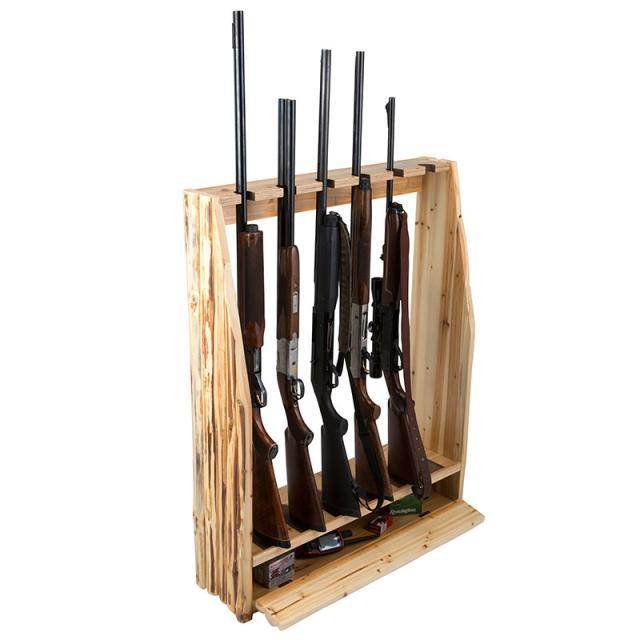ShotGun: (234, 11, 290, 548), (313, 50, 359, 518), (277, 99, 325, 531), (350, 51, 394, 503)
